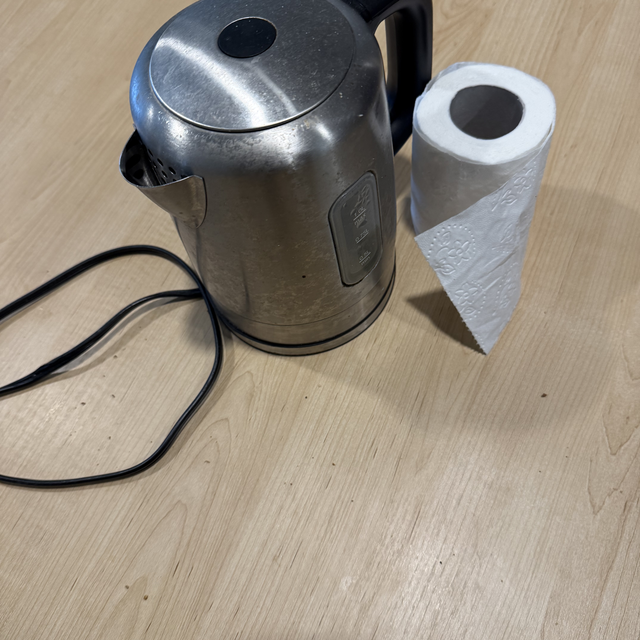Kettle: (128, 0, 453, 363)
Toilet Paper: (409, 55, 552, 352)
